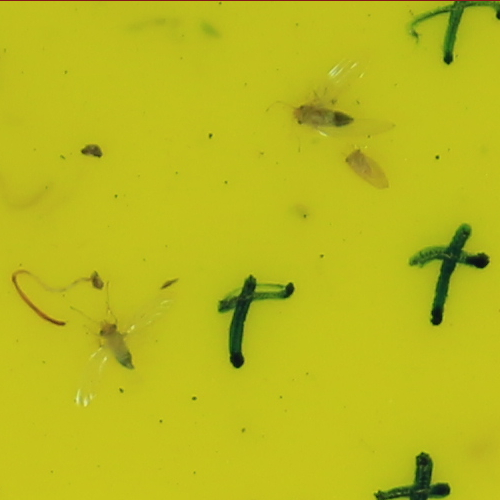Glycaspis: (93, 320, 133, 370), (291, 104, 356, 130)
Platyobria: (342, 145, 390, 186)
